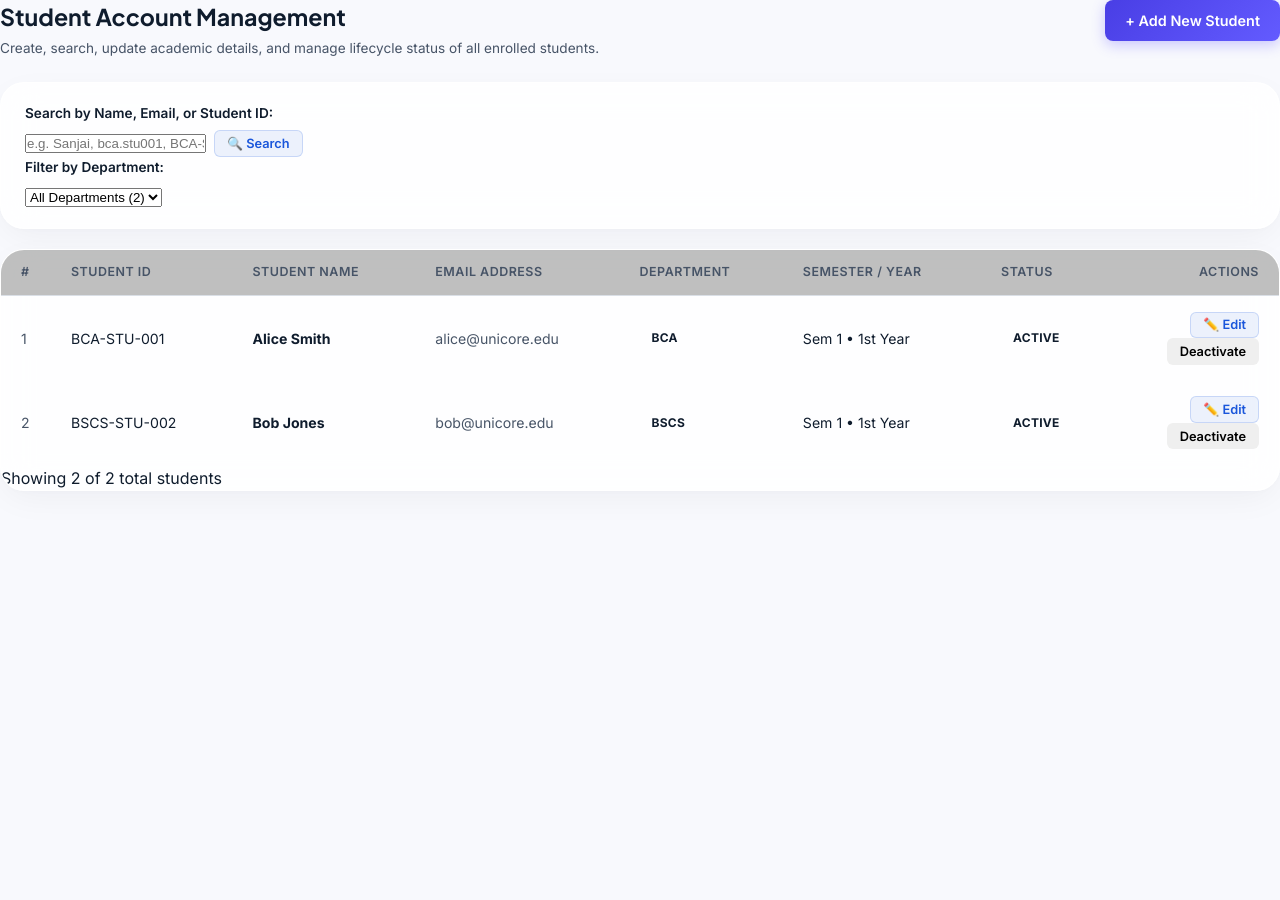
Test: Admin Portal — Student Creation & Automatic Enrollment Tests › opens edit modal pre-filled with student information
Expected: the text "Alice Smith" is shown, x1=252 y1=330 x2=330 y2=347
Click the button "✏️ Edit" in the row of "BCA-STU-001" at x=1225, y=325, box x1=1190 y1=312 x2=1259 y2=338
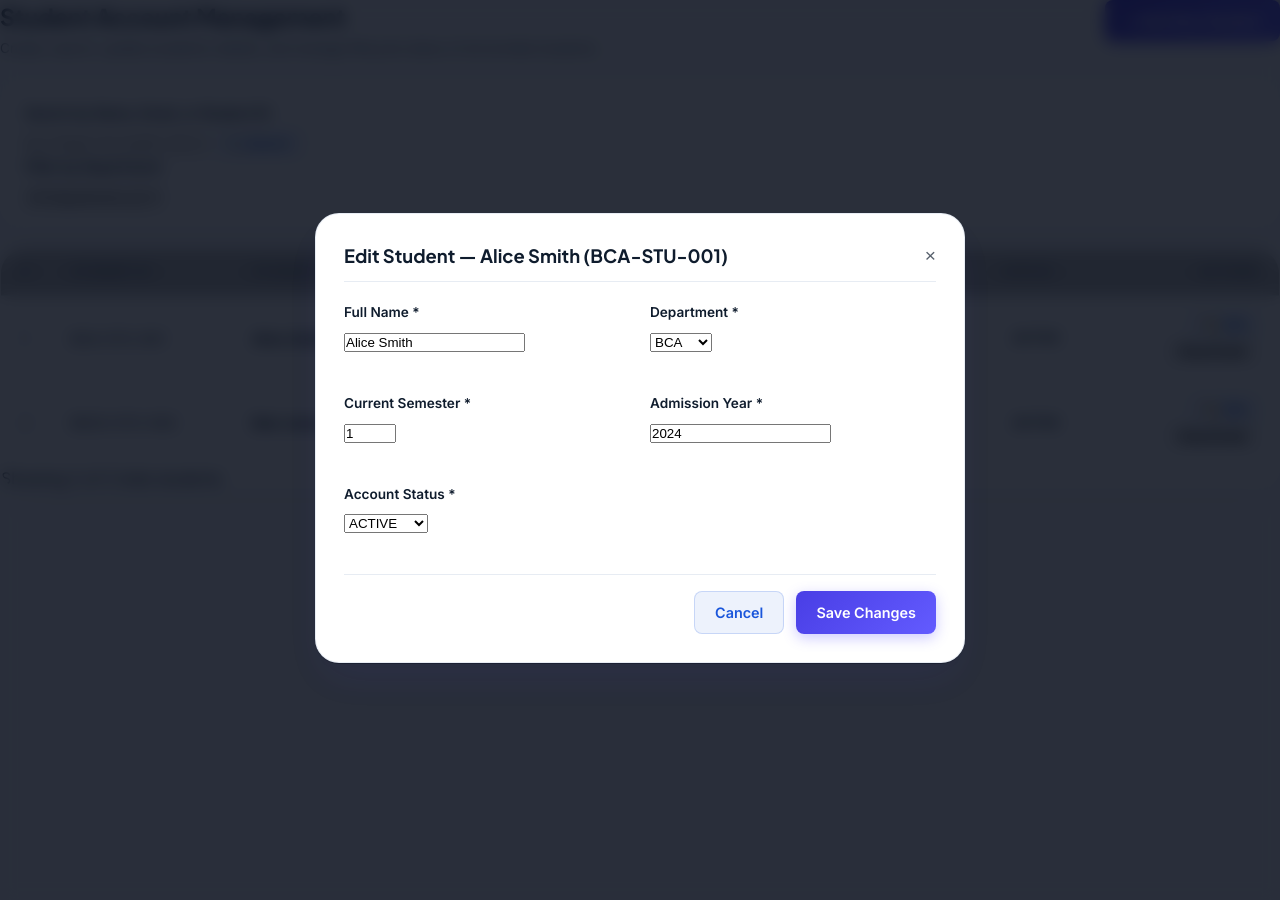
Result: the heading "Edit Student — Alice Smith (BCA-STU-001)" is shown at x1=344 y1=242 x2=728 y2=269
Result: the field showing "Alice Smith" is shown at x1=344 y1=333 x2=525 y2=352
